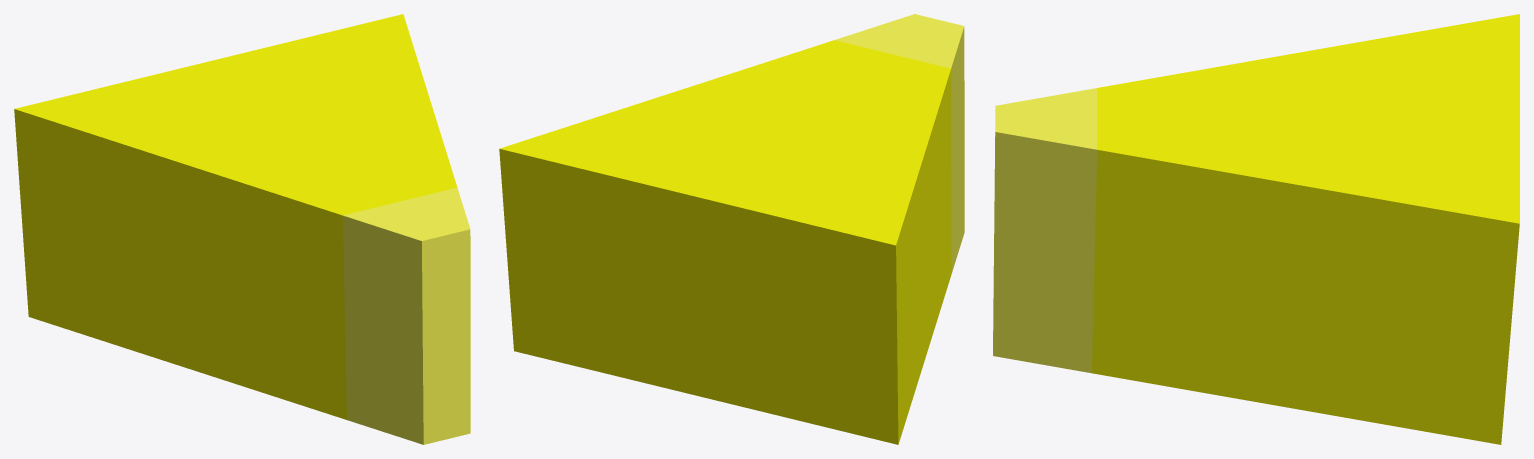
File: pineapple04.gltf
3 renders of one model, left to right at view 1: azimuth 30°, elevation 25°; view 2: azimuth 150°, elevation 25°; view 3: azimuth 270°, elevation 25°, orthographic. The views are drawn at different scales.
Visible parts, largest first — view 1: Cylinder; view 2: Cylinder; view 3: Cylinder.
Boxes of the visible parts, x1,y1,x2,y2 form: Cylinder: [14, 14, 470, 444]; Cylinder: [499, 14, 964, 444]; Cylinder: [993, 14, 1519, 444].
Bounding box in the file's own units: 0.0412 × 0.0206 × 0.0437.
1 material, 1 textured.
